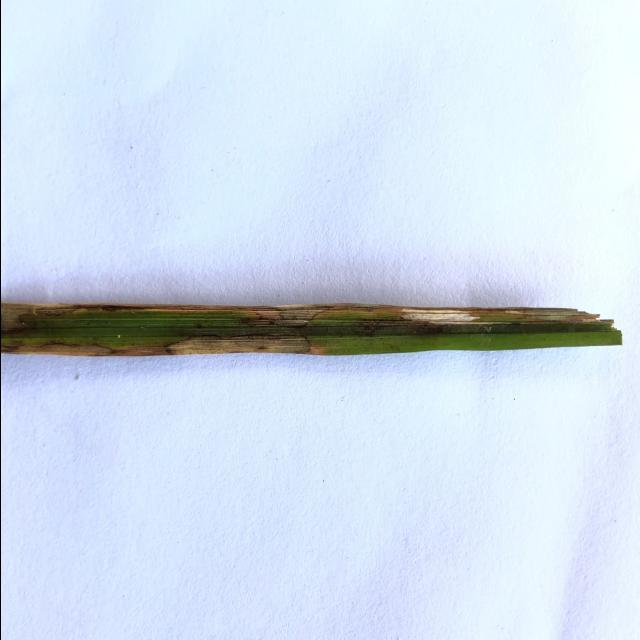Leaf Blight: (386, 306, 602, 331), (152, 334, 318, 355), (0, 340, 165, 356), (230, 305, 332, 328), (0, 303, 93, 328), (85, 304, 239, 312), (314, 305, 401, 319)
